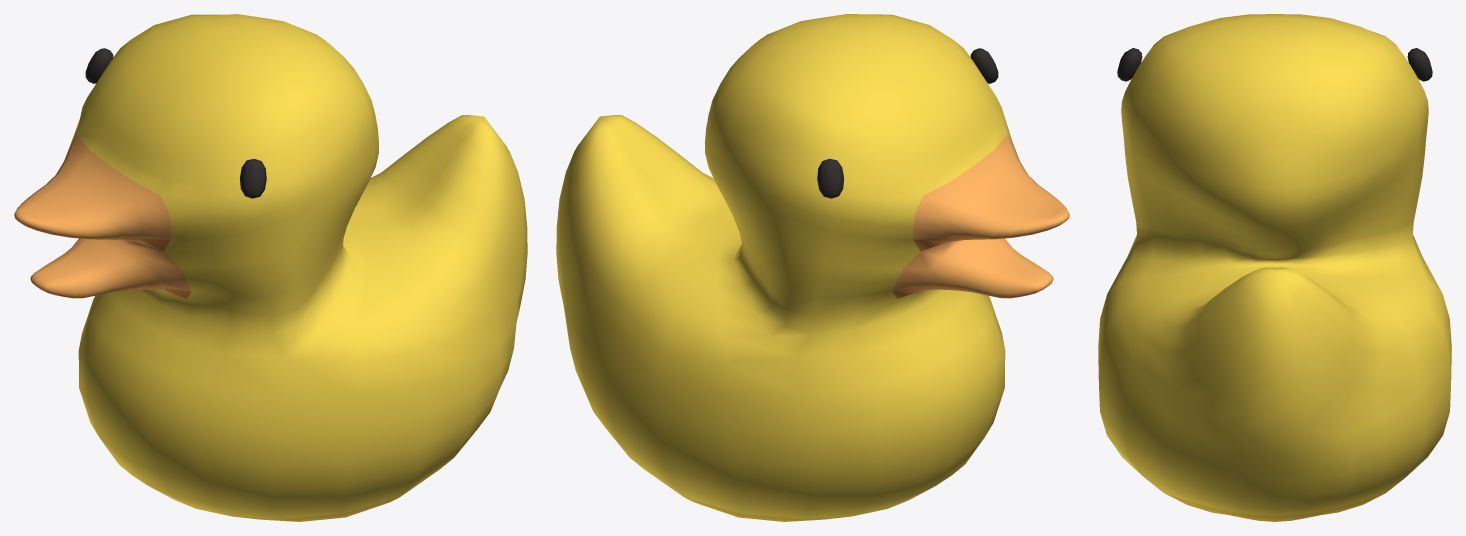
The model's file is RubberDuck.glb.
3 views of the same model, side by side, from view 1: azimuth 30°, elevation 25°; view 2: azimuth 150°, elevation 25°; view 3: azimuth 270°, elevation 25° (orthographic). The views are drawn at different scales.
Visible parts, largest first — view 1: Eyes.001; view 2: Eyes.001; view 3: Eyes.001.
Boxes of the visible parts, x1,y1,x2,y2 form: Eyes.001: [14, 14, 527, 521]; Eyes.001: [556, 14, 1069, 521]; Eyes.001: [1098, 14, 1451, 521].
Bounding box in the file's own units: 0.7412 × 0.6675 × 0.4795.
